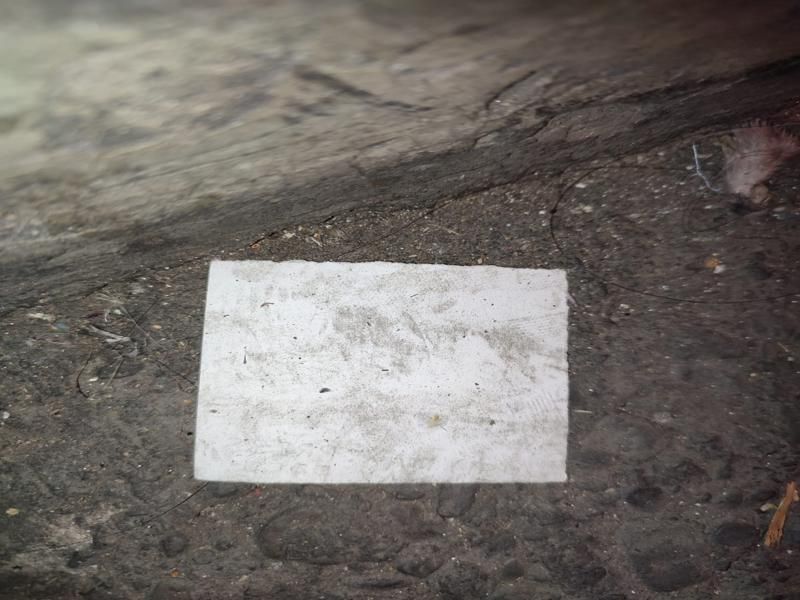papel: (190, 260, 574, 488)
